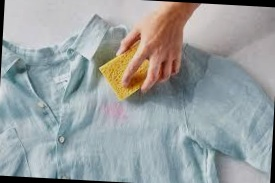lipstick: (102, 99, 133, 119)
